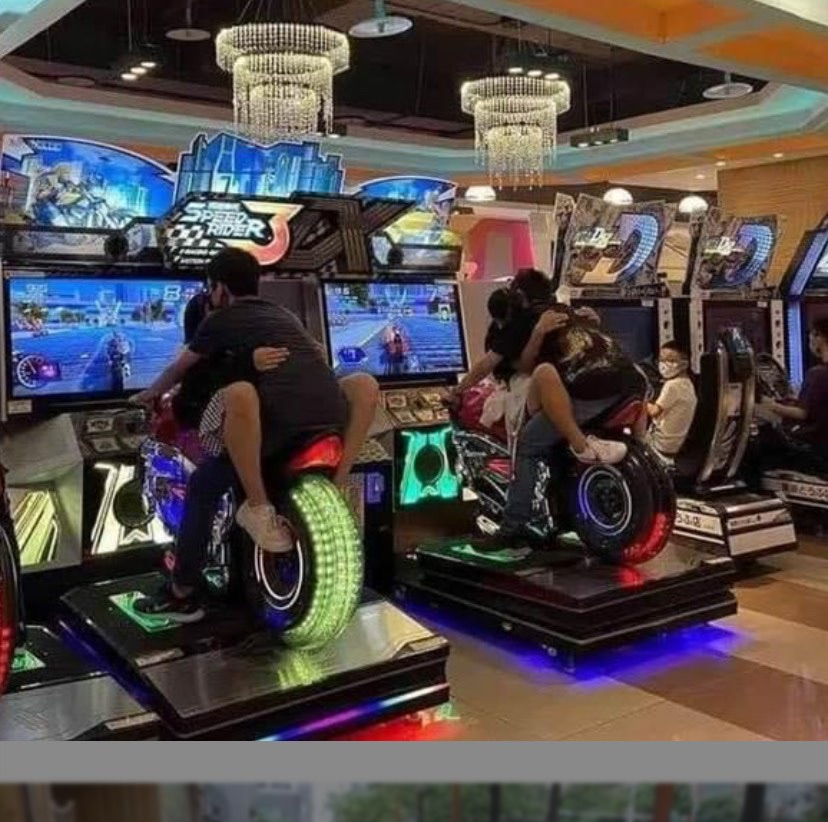people: (134, 246, 382, 620), (447, 271, 649, 551), (773, 314, 828, 449), (648, 340, 696, 459)
